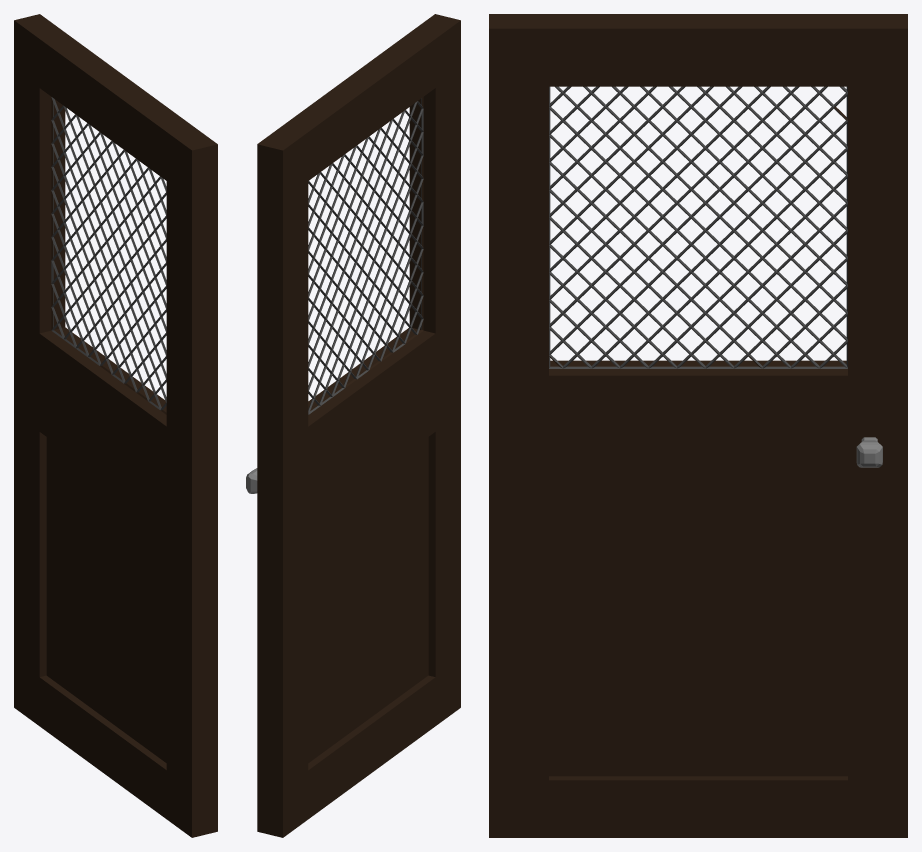
File: Door.fbx
3 renders of one model, left to right at view 1: azimuth 30°, elevation 25°; view 2: azimuth 150°, elevation 25°; view 3: azimuth 270°, elevation 25°, orthographic. The views are drawn at different scales.
Visible parts, largest first — view 1: Door; view 2: Door; view 3: Door.
Part boxes in pixels (x1=…): Door: x1=14, y1=14, x2=217, y2=837; Door: x1=246, y1=14, x2=460, y2=837; Door: x1=489, y1=14, x2=907, y2=837.
Bounding box in the file's own units: 43.2 × 560 × 263.
